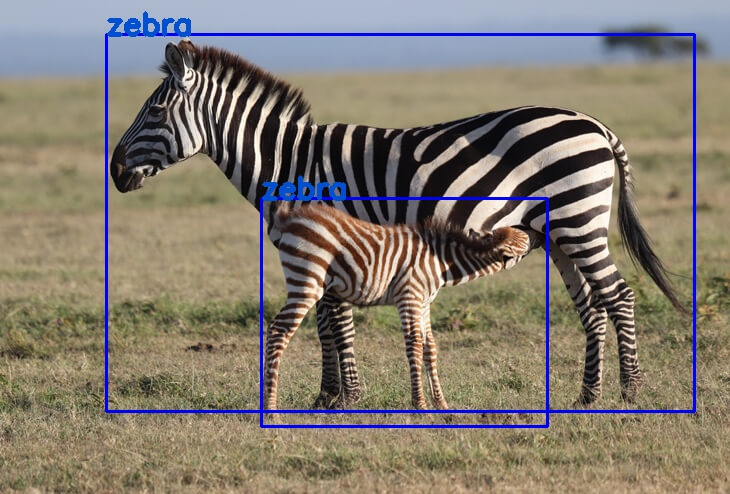zebra: (106, 34, 693, 411), (261, 198, 547, 425)
